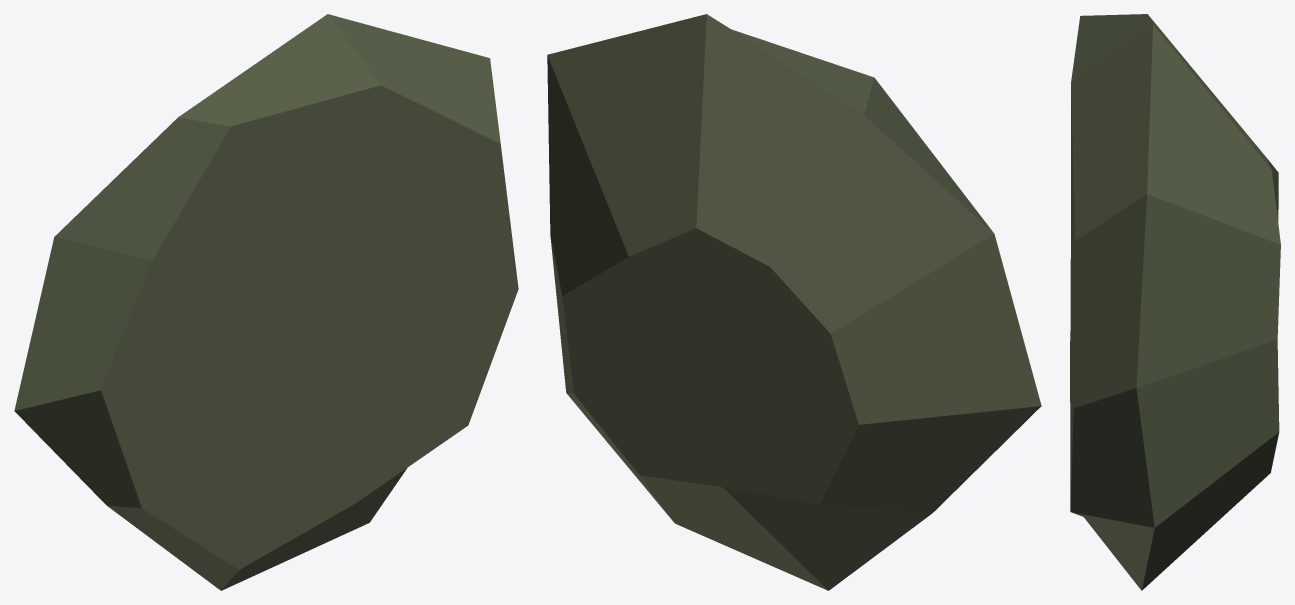
File: Rock_Large.fbx
3 views of the same model, side by side, from view 1: azimuth 30°, elevation 25°; view 2: azimuth 150°, elevation 25°; view 3: azimuth 270°, elevation 25° (orthographic). The views are drawn at different scales.
Parts seen in each view (by area): view 1: Rock_Large_LOD0; view 2: Rock_Large_LOD0; view 3: Rock_Large_LOD0.
Boxes of the visible parts, x1=… form: Rock_Large_LOD0: x1=14, y1=14, x2=518, y2=590; Rock_Large_LOD0: x1=547, y1=14, x2=1041, y2=590; Rock_Large_LOD0: x1=1070, y1=14, x2=1280, y2=590.
Size of what is drawn, in the model's own units: 429 by 463 by 152.
